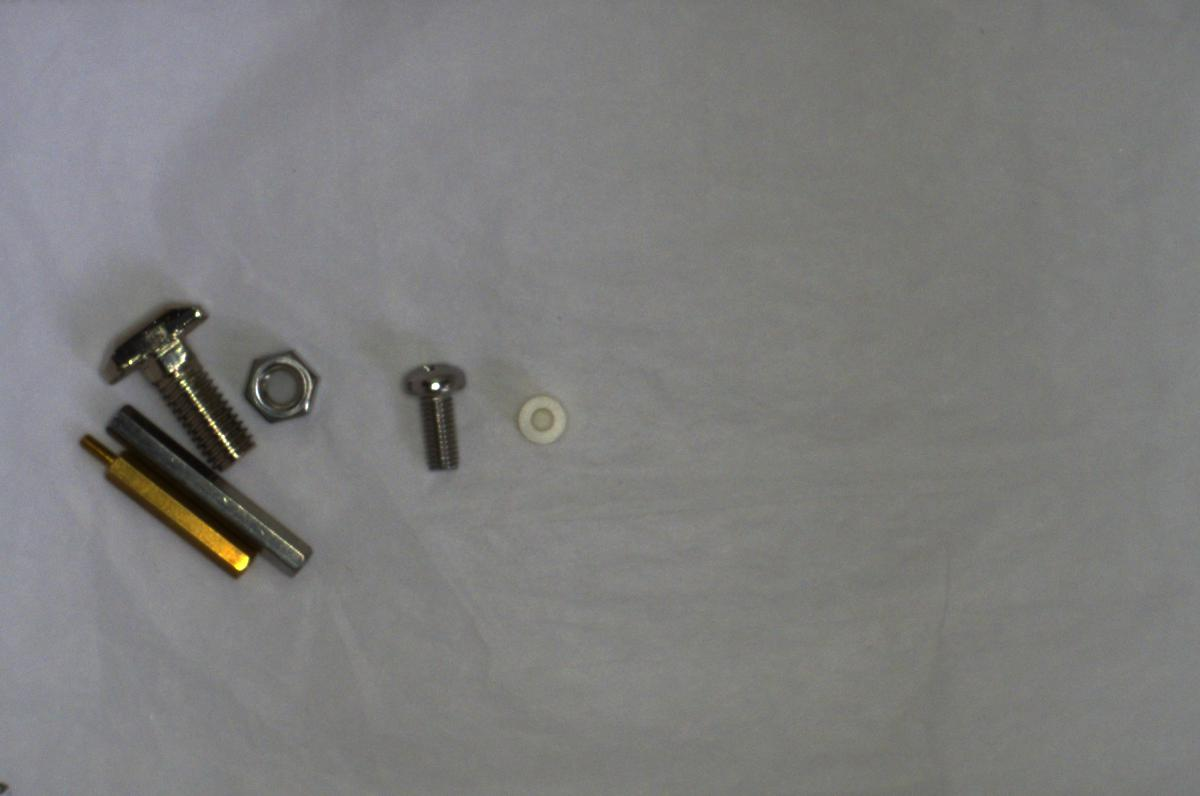Double hexagonal column: (99, 402, 317, 581)
Hexagon nut: (245, 341, 324, 426)
Hexagon pillar: (68, 433, 251, 583)
Plastic cushion pillar: (507, 387, 567, 450)
Round head screw: (400, 356, 473, 473)
T-shaped screw: (97, 299, 257, 472)
